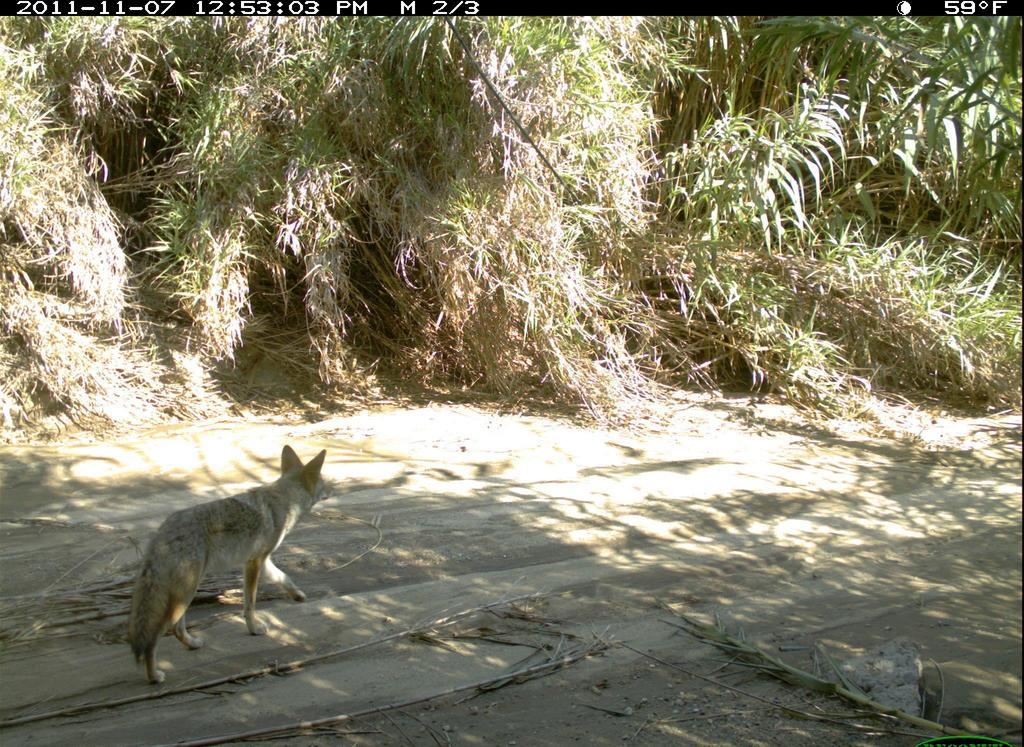coyote: (127, 441, 354, 688)
